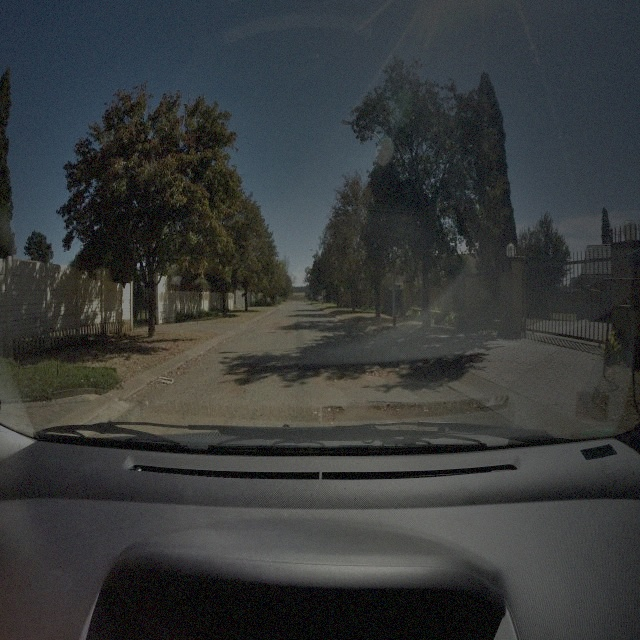pothole: (364, 364, 402, 382), (370, 403, 406, 413), (320, 404, 344, 416)
